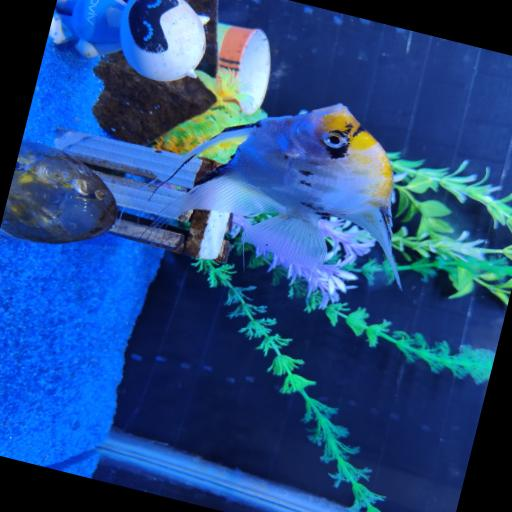Fish: (158, 103, 399, 284)
